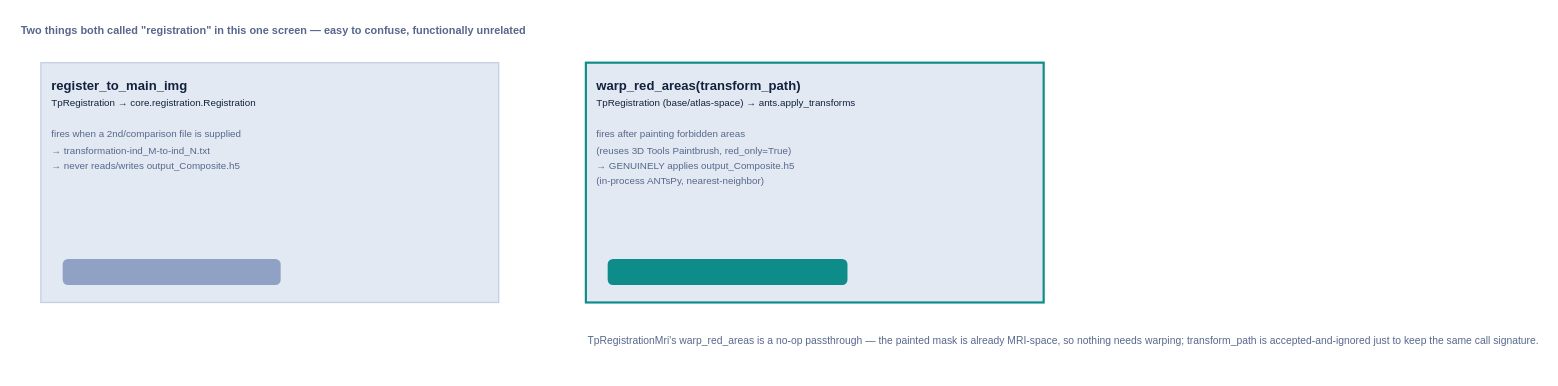
Some shapes in this 1558 by 386 pixel diagram are drawn without their labels. The centre of each missing label's shape, as x and y in pixels:
"real SAMRI transform consumer" belongs at point 727,271.
"unrelated to SAMRI" belongs at point 171,271.
